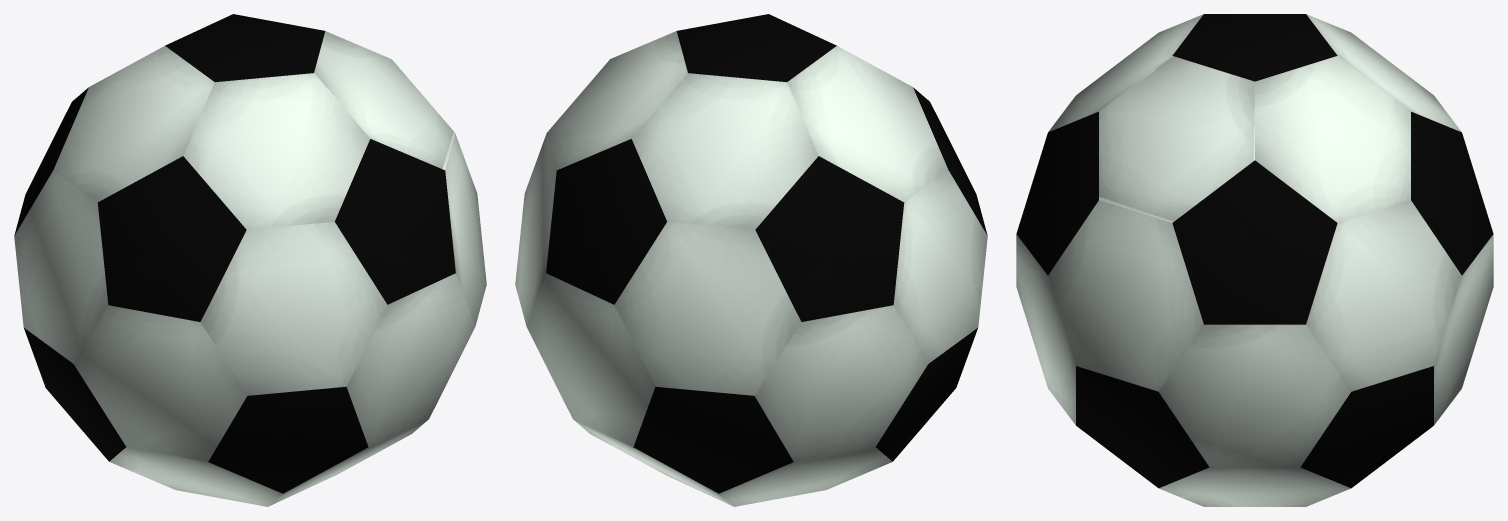
File: ball.glb
The picture shows the model from 3 angles, left to right: view 1: azimuth 30°, elevation 25°; view 2: azimuth 150°, elevation 25°; view 3: azimuth 270°, elevation 25°; orthographic projection. The views are drawn at different scales.
Parts seen in each view (by area): view 1: ball; view 2: ball; view 3: ball.
Boxes of the visible parts, x1,y1,x2,y2 form: ball: (14,14,486,506); ball: (515,14,987,506); ball: (1016,14,1493,506).
Bounding box in the file's own units: 1 × 1 × 1.
Materials: 1 (1 with a texture image).
